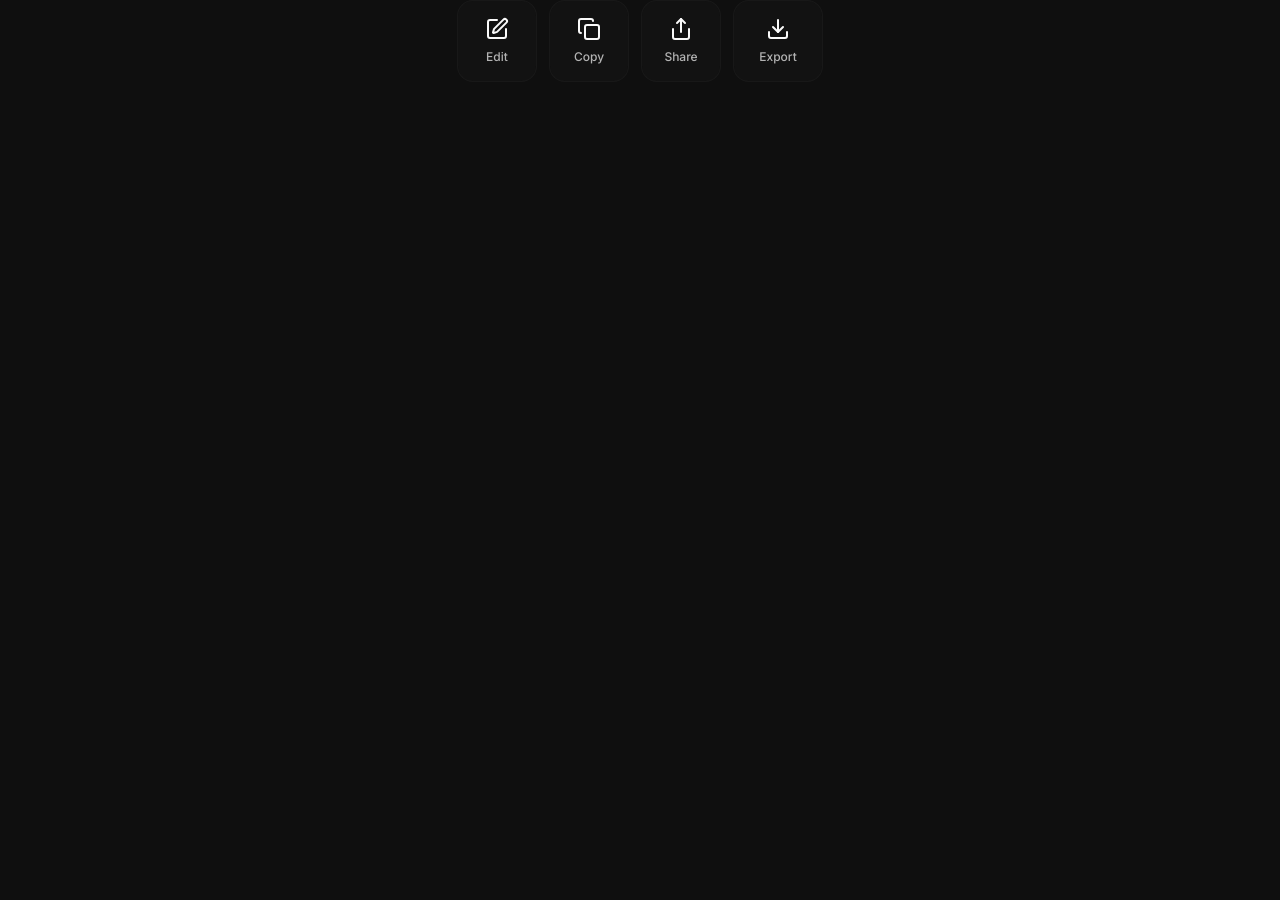
Test: PublishActions › Edit Functionality - Logged Out User › should close edit popup when X button clicked
Click the button with test id "edit-button" at (497, 41), box [457,0,537,82]
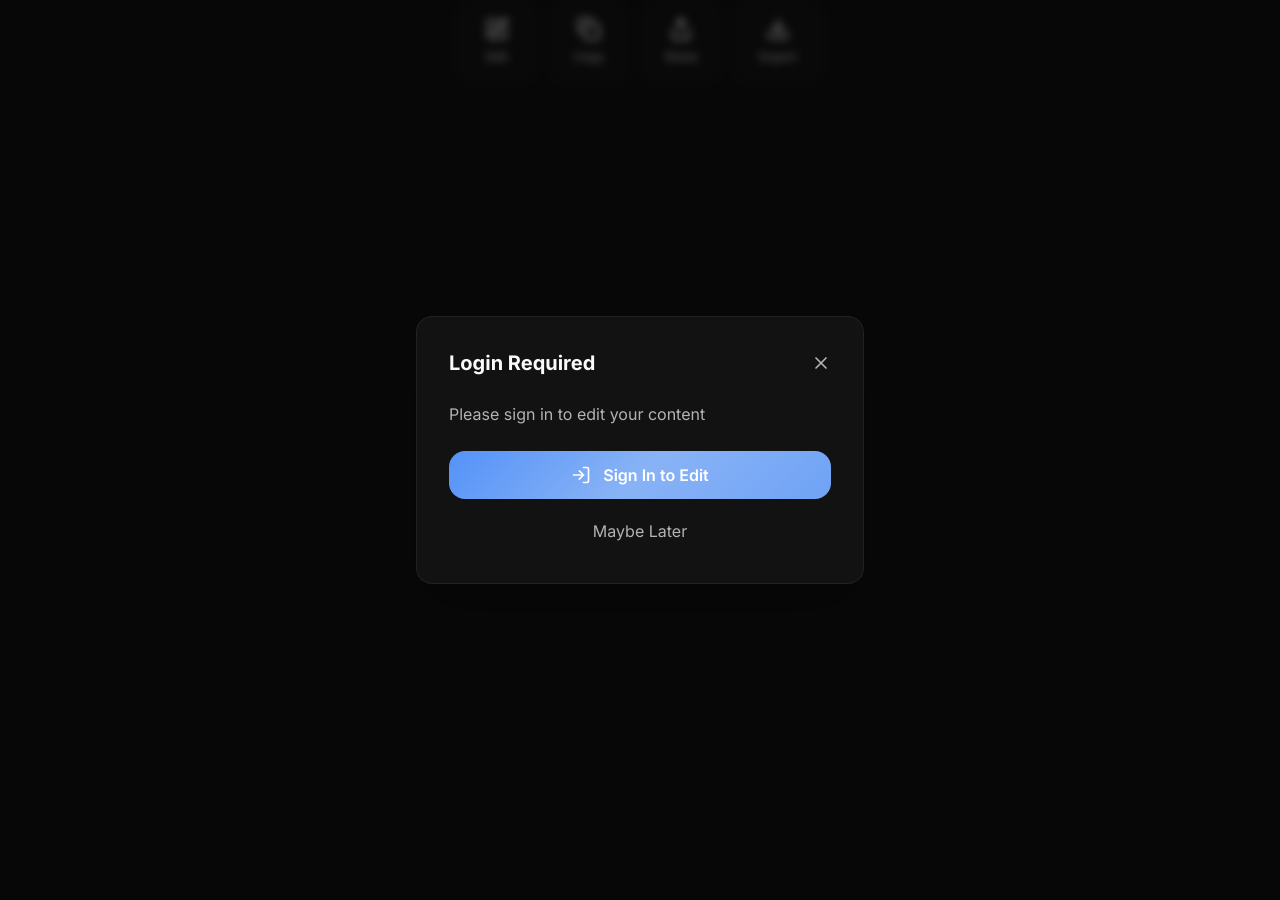
Expected: the heading "Login Required" is shown, [449,349,595,377]
Click the button with test id "close-popup-button" at (821, 363), box [811,353,831,373]
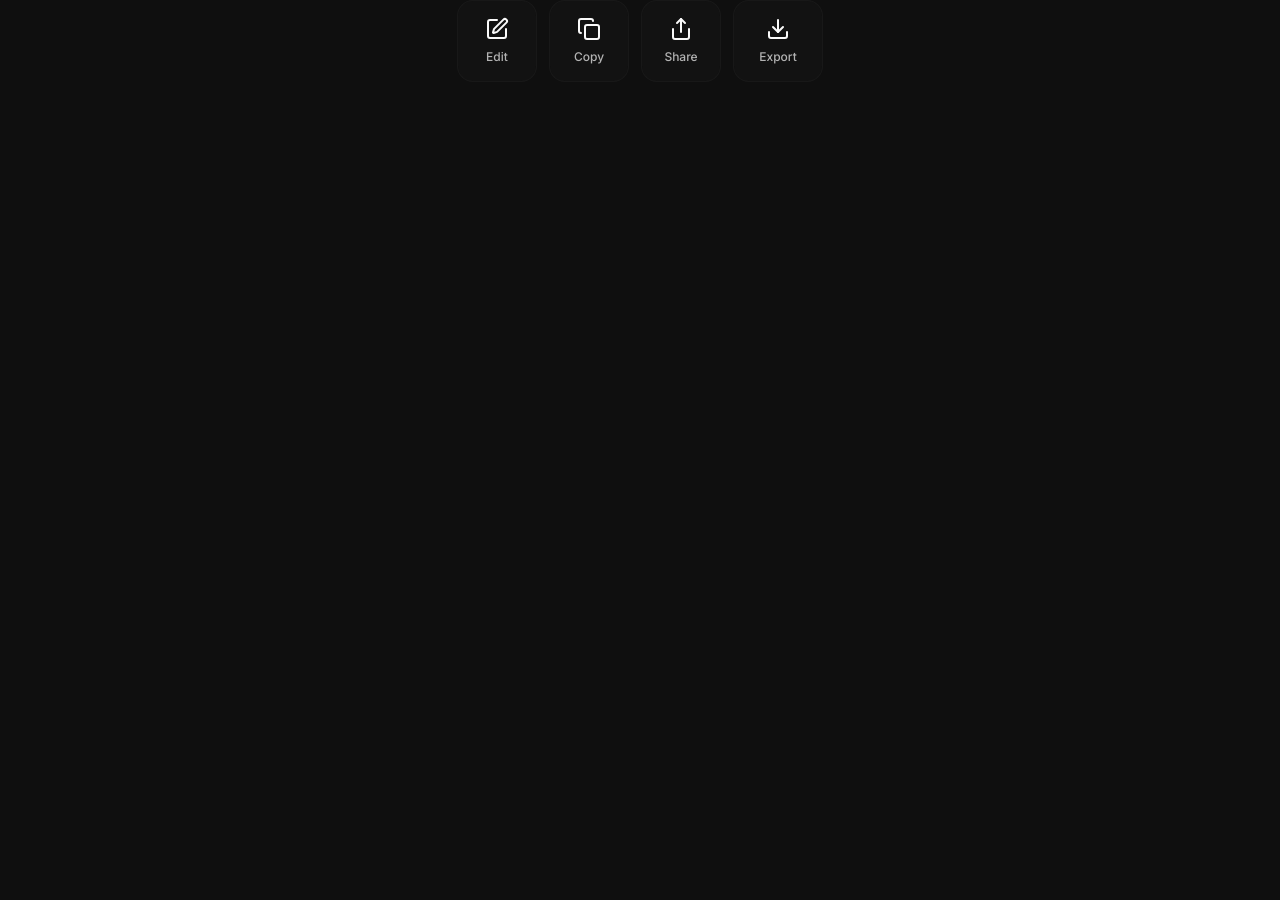
Expected: the heading "Login Required" is gone
